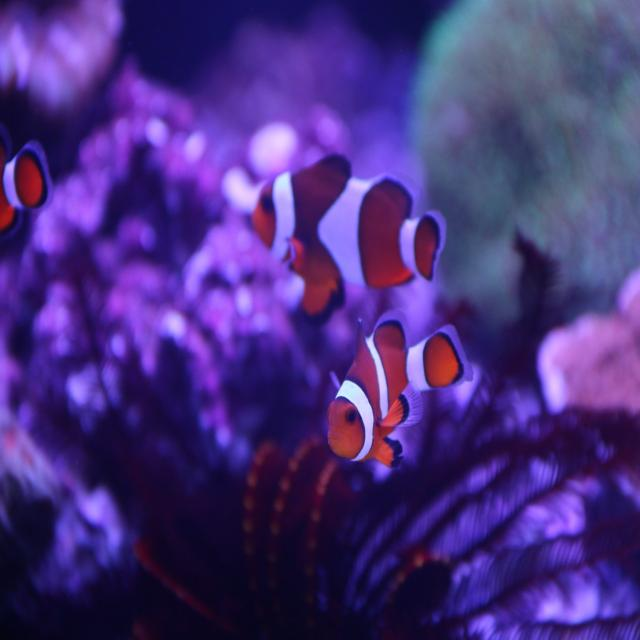ClownFish: (251, 153, 449, 315), (322, 315, 476, 468)
